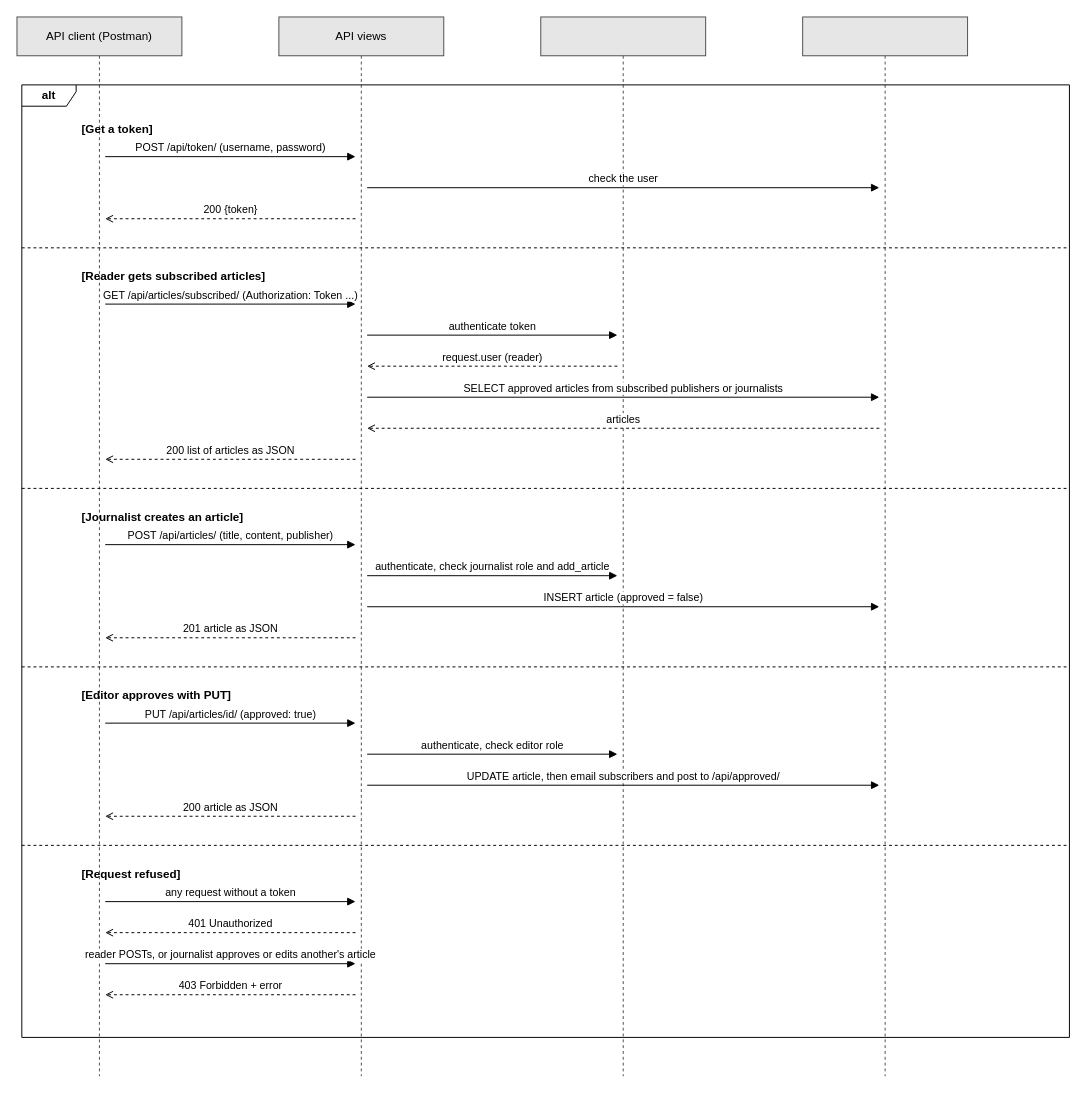
Image size: 1087x1093. Some labels were removed from this diagram. The shapes that lost their labels are listed below. From the top down, each one's box as (x1, y1, x2, y2) in pixels, then its label:
(540, 16, 706, 1076): TokenAuthentication
(802, 16, 968, 1076): Database
